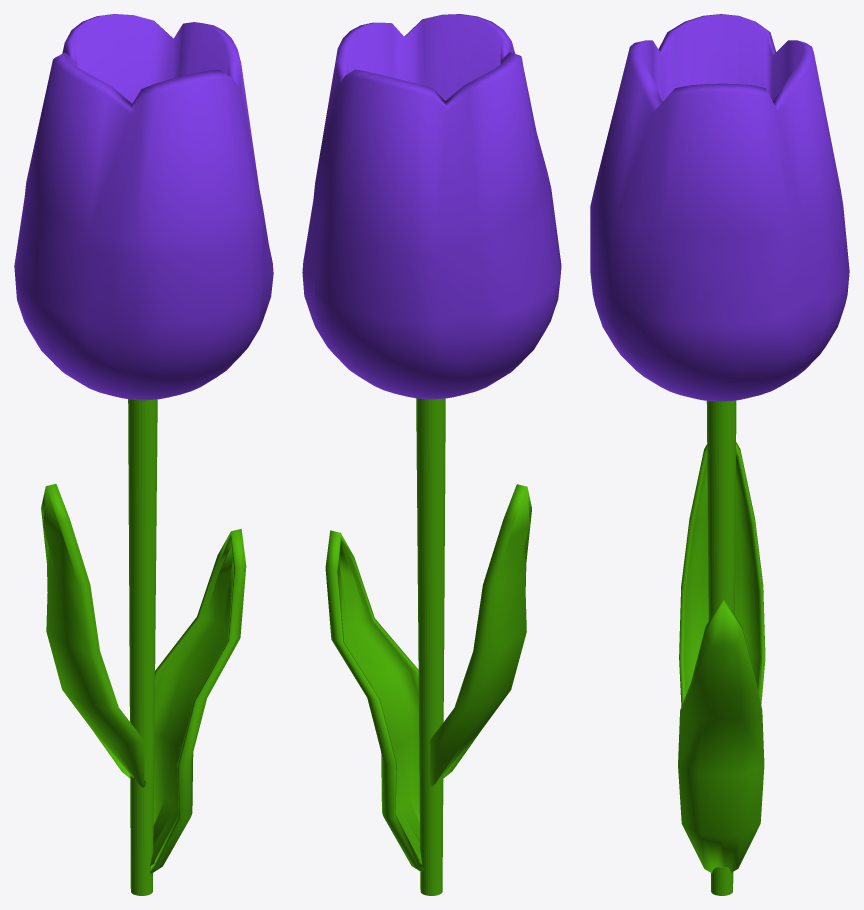
Rendered from flower2.glb.
The picture shows the model from 3 angles, left to right: view 1: azimuth 30°, elevation 25°; view 2: azimuth 150°, elevation 25°; view 3: azimuth 270°, elevation 25°; orthographic projection.
Parts seen in each view (by area): view 1: flower; view 2: flower; view 3: flower.
Boxes of the visible parts, x1,y1,x2,y2 form: flower: (14, 14, 273, 895); flower: (302, 14, 561, 895); flower: (590, 14, 849, 895).
Size of the model in its own units: 0.4818 by 1.74 by 0.484.
